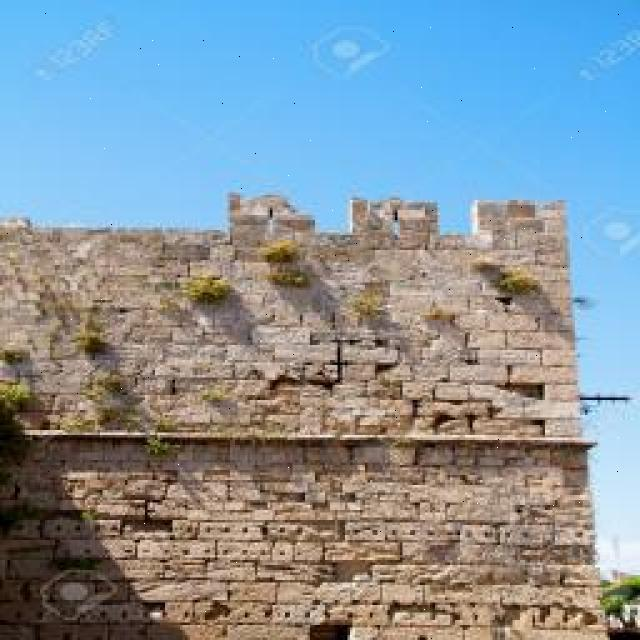crack: (173, 469, 256, 516), (159, 390, 233, 428), (255, 323, 321, 359), (136, 580, 226, 604), (165, 232, 217, 261), (228, 444, 280, 472), (371, 257, 422, 284), (163, 598, 218, 623), (224, 598, 277, 623), (345, 343, 399, 367), (462, 382, 520, 404), (120, 476, 169, 501), (123, 561, 181, 582), (94, 603, 147, 625), (228, 582, 280, 604), (9, 556, 55, 580), (134, 539, 182, 562), (197, 565, 257, 582), (491, 348, 544, 367), (56, 534, 96, 559), (510, 363, 557, 384), (461, 364, 508, 384), (42, 518, 84, 540), (493, 313, 539, 333), (227, 622, 281, 639), (216, 538, 259, 558), (245, 360, 284, 382), (431, 382, 475, 401), (93, 504, 142, 521), (340, 363, 383, 382), (350, 198, 371, 234), (279, 213, 316, 233), (504, 200, 538, 220), (397, 205, 432, 222)
dampness: (8, 615, 181, 640)
vegetation: (0, 342, 44, 396), (0, 379, 37, 429), (2, 501, 50, 535), (185, 275, 231, 304), (348, 286, 387, 320), (496, 267, 539, 296), (72, 319, 108, 353), (376, 372, 414, 402), (261, 239, 302, 263), (54, 554, 105, 573), (96, 370, 131, 397), (144, 432, 177, 460), (267, 268, 310, 288), (93, 404, 126, 429), (200, 382, 235, 404), (421, 303, 459, 322), (76, 505, 102, 527), (1, 346, 28, 365), (471, 257, 499, 273)
